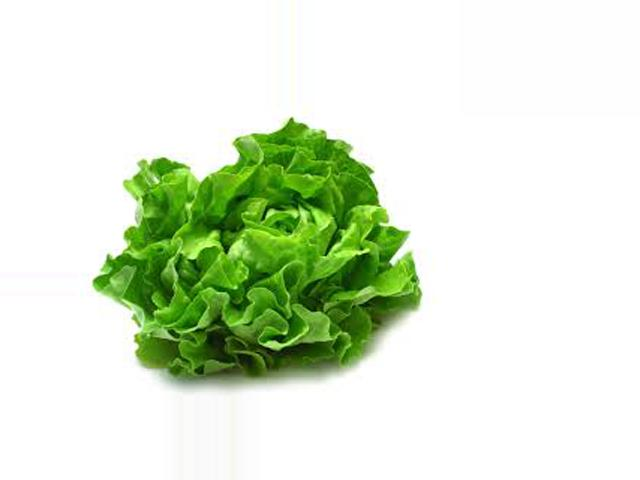lettuce: (96, 120, 412, 385)
